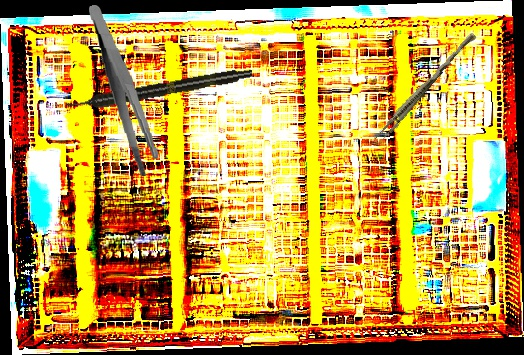Dressing Forceps: (88, 1, 160, 180)
Handpiece: (64, 65, 254, 114)
Tissue Forceps: (372, 28, 478, 147)
